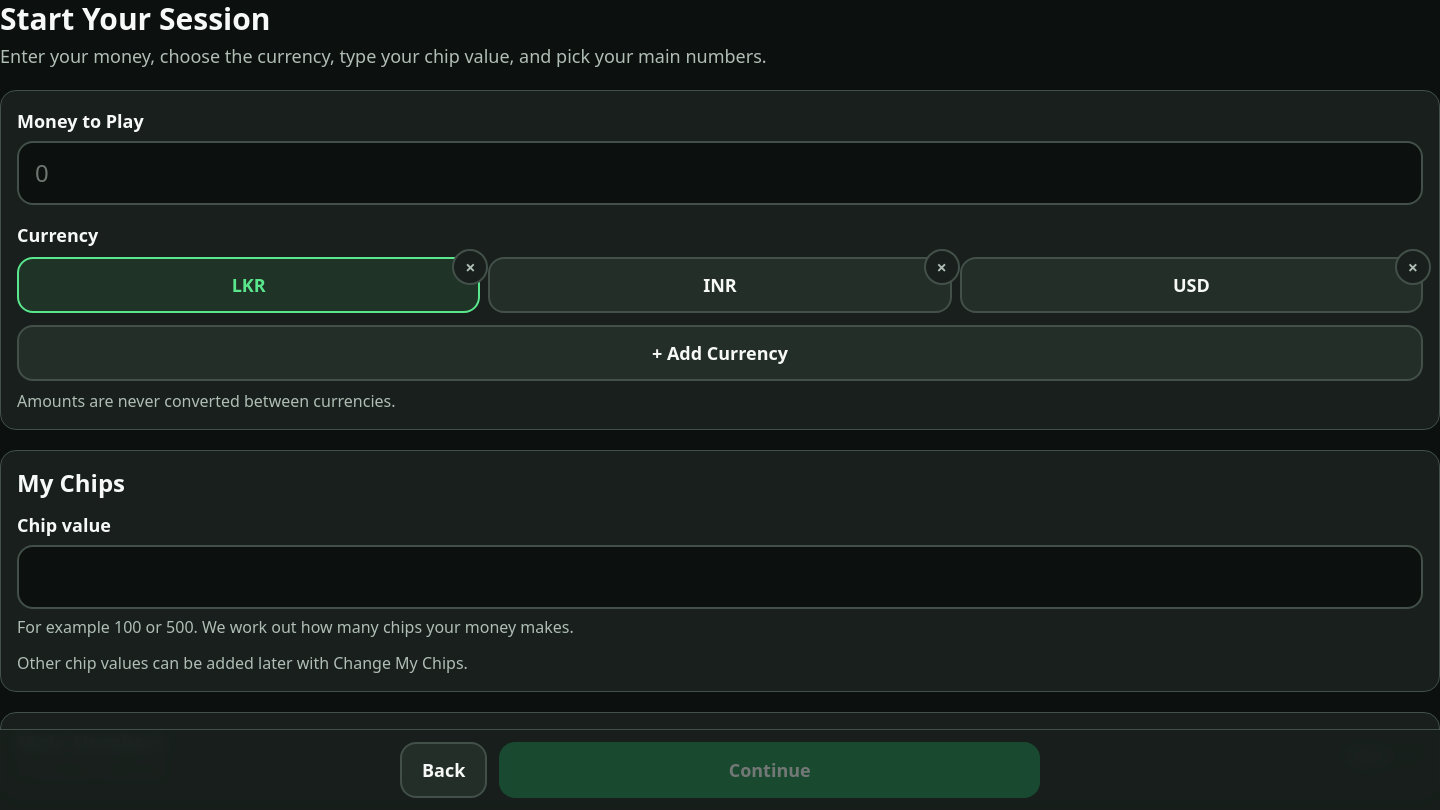
Test: remove a currency with its X button › the last currency cannot be removed, and a removed currency still formats in saved sessions
Click the 3rd button "×" at (1413, 266), box top-left (1395, 248), bottom-right (1431, 284)
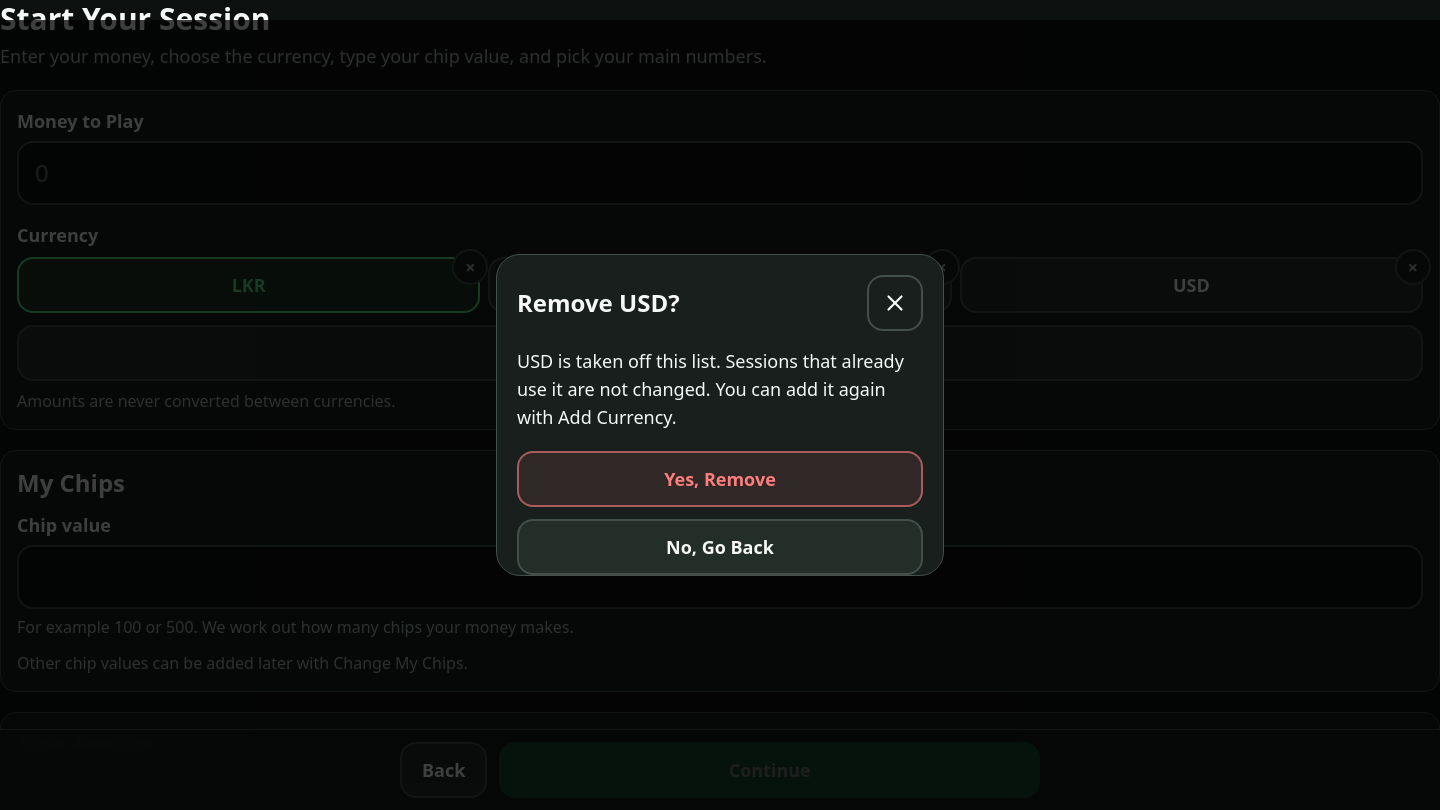
Click the button "Yes, Remove" at (720, 479), box top-left (517, 451), bottom-right (923, 507)
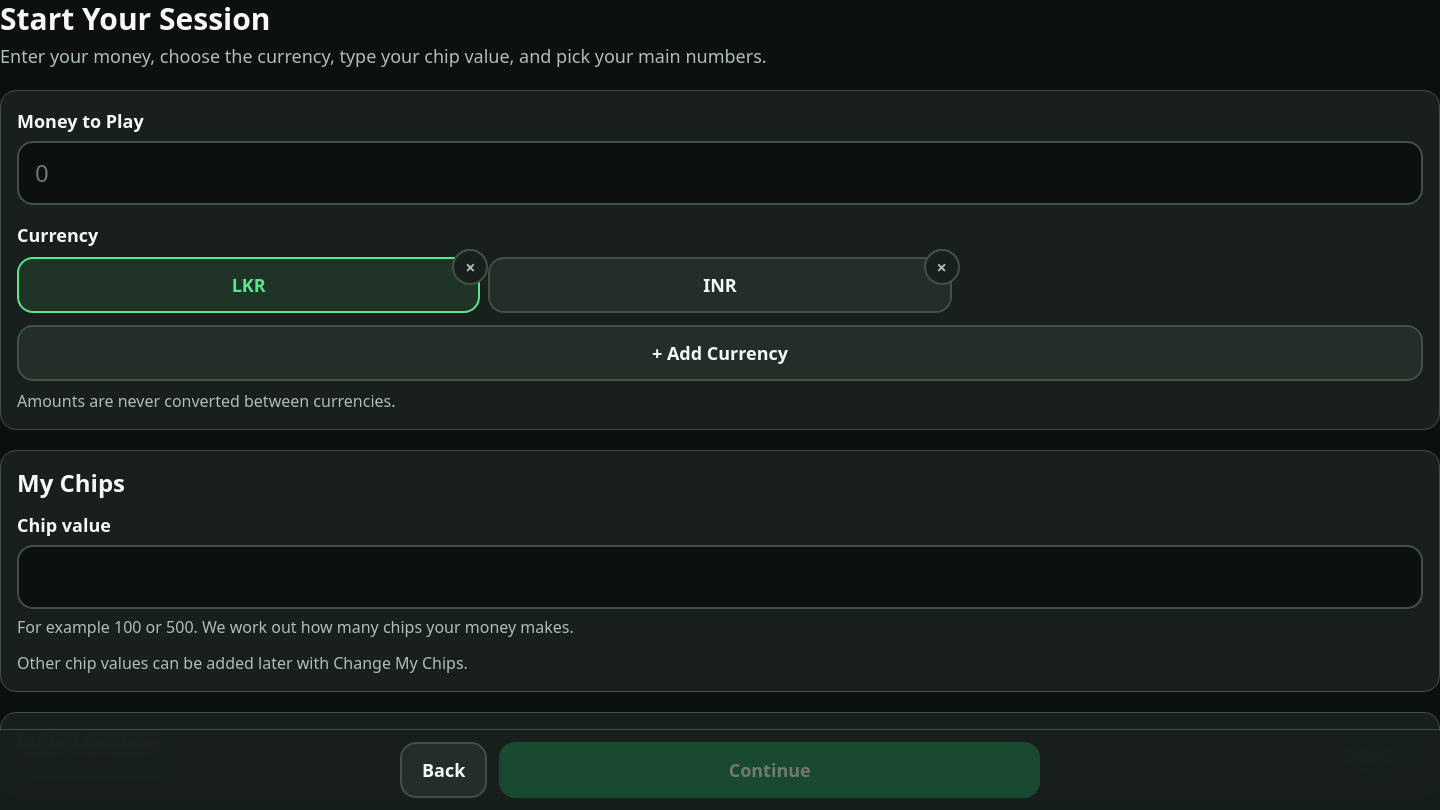
Expected: the radio button labelled "USD" is gone
Click the button named "Remove INR" at (942, 266), box top-left (924, 248), bottom-right (960, 284)
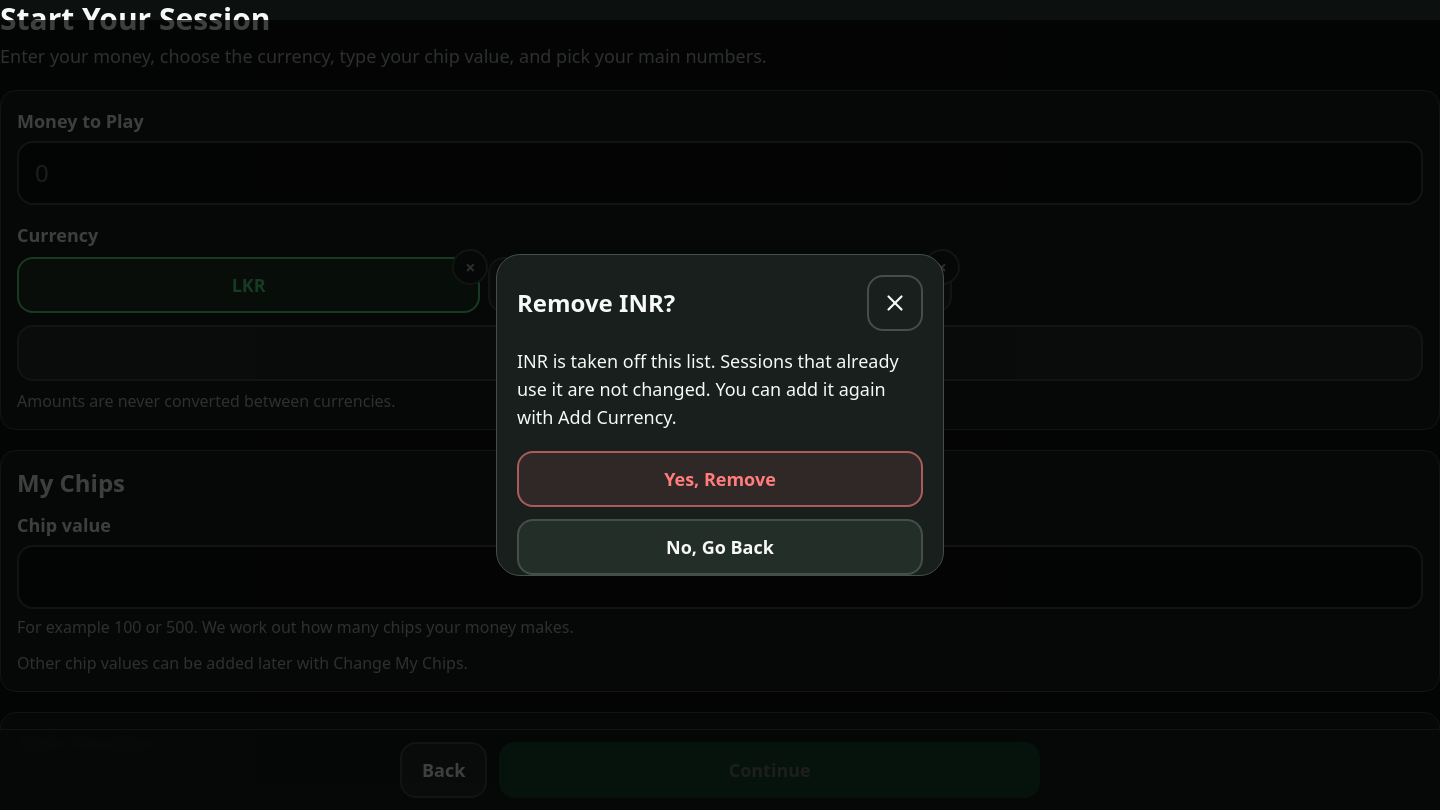
Click the button "Yes, Remove" at (720, 479), box top-left (517, 451), bottom-right (923, 507)
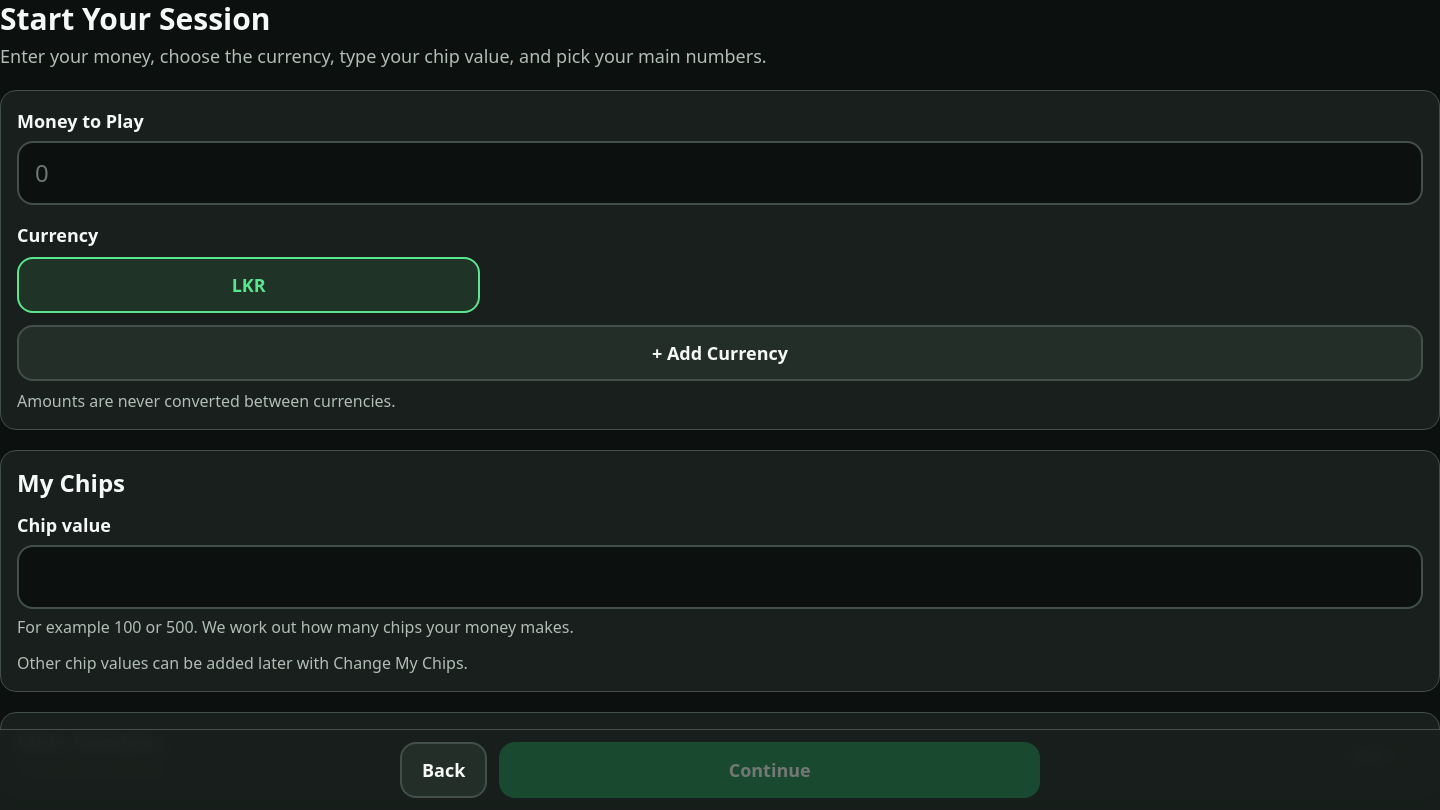
Expected: the radio button labelled "INR" is gone
Expected: the number of radio buttons is 1, top-left (17, 256), bottom-right (480, 312)
Expected: the heading "Remove " is gone
